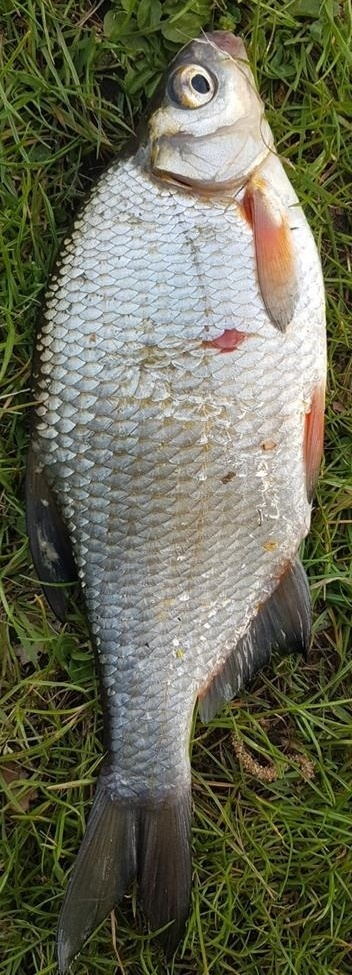Blicca bjoerkna: (20, 20, 332, 975)
